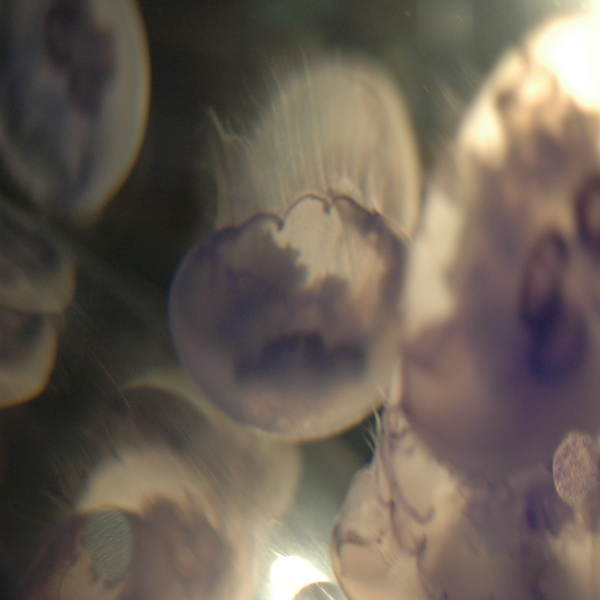Jellyfish: (383, 1, 599, 485), (163, 39, 421, 441), (12, 374, 262, 599), (0, 0, 149, 225), (329, 422, 476, 599), (0, 225, 73, 406)
